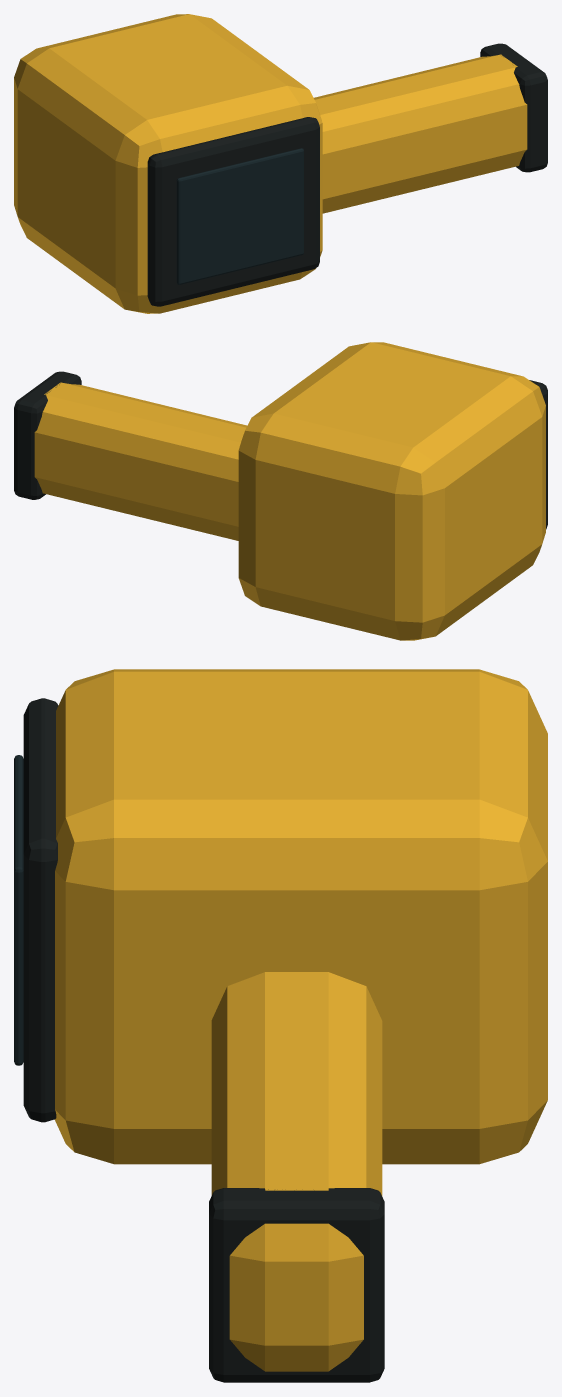
The picture shows the model from 3 angles, top to bottom: view 1: azimuth 30°, elevation 25°; view 2: azimuth 150°, elevation 25°; view 3: azimuth 270°, elevation 25°; orthographic projection. The views are drawn at different scales.
Visible parts, largest first — view 1: Wide yellow handheld head, Broad black head back, Unknown dark head face; view 2: Wide yellow handheld head, Broad black head back; view 3: Wide yellow handheld head, Broad black head back, Unknown dark head face.
Part boxes in pixels (bbox=[...]): Wide yellow handheld head: bbox=[14, 14, 527, 313]; Broad black head back: bbox=[147, 43, 547, 306]; Unknown dark head face: bbox=[176, 148, 303, 284]; Wide yellow handheld head: bbox=[34, 342, 545, 640]; Broad black head back: bbox=[14, 371, 547, 529]; Wide yellow handheld head: bbox=[54, 669, 547, 1371]; Broad black head back: bbox=[23, 698, 384, 1382]; Unknown dark head face: bbox=[14, 755, 23, 1065].
Size of the model in its own units: 0.207 by 0.082 by 0.1095.
